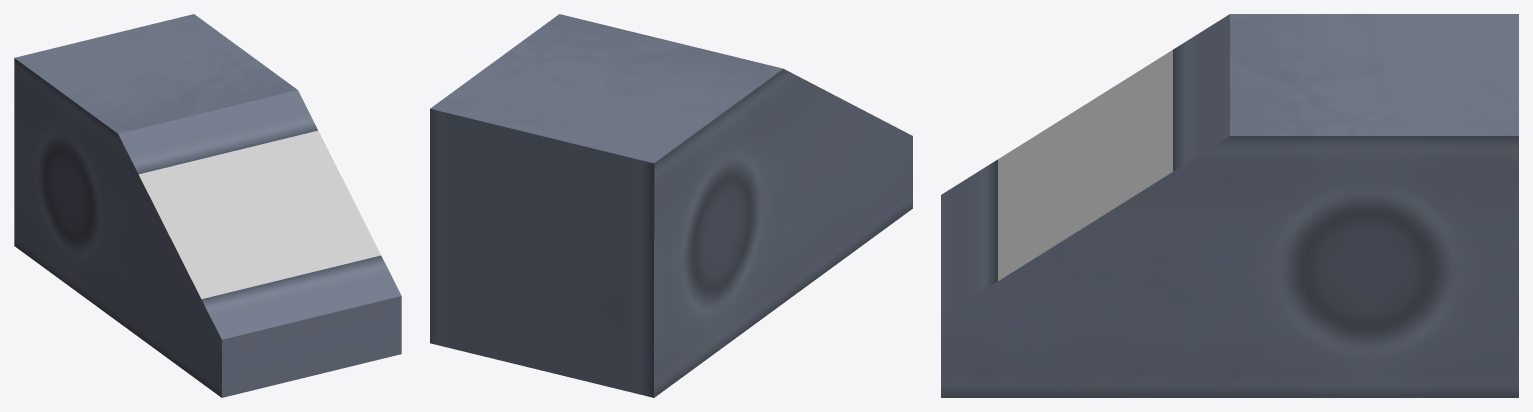
File: obj_spaceship_frame01.fbx
3 renders of one model, left to right at view 1: azimuth 30°, elevation 25°; view 2: azimuth 150°, elevation 25°; view 3: azimuth 270°, elevation 25°, orthographic. The views are drawn at different scales.
Parts seen in each view (by area): view 1: polySurface258; view 2: polySurface258; view 3: polySurface258.
Part boxes in pixels (left/top/right/bottom): polySurface258: left=14, top=14, right=401, bottom=397; polySurface258: left=430, top=14, right=912, bottom=397; polySurface258: left=941, top=14, right=1518, bottom=397.
Bounding box in the file's own units: 1 × 1 × 2.
